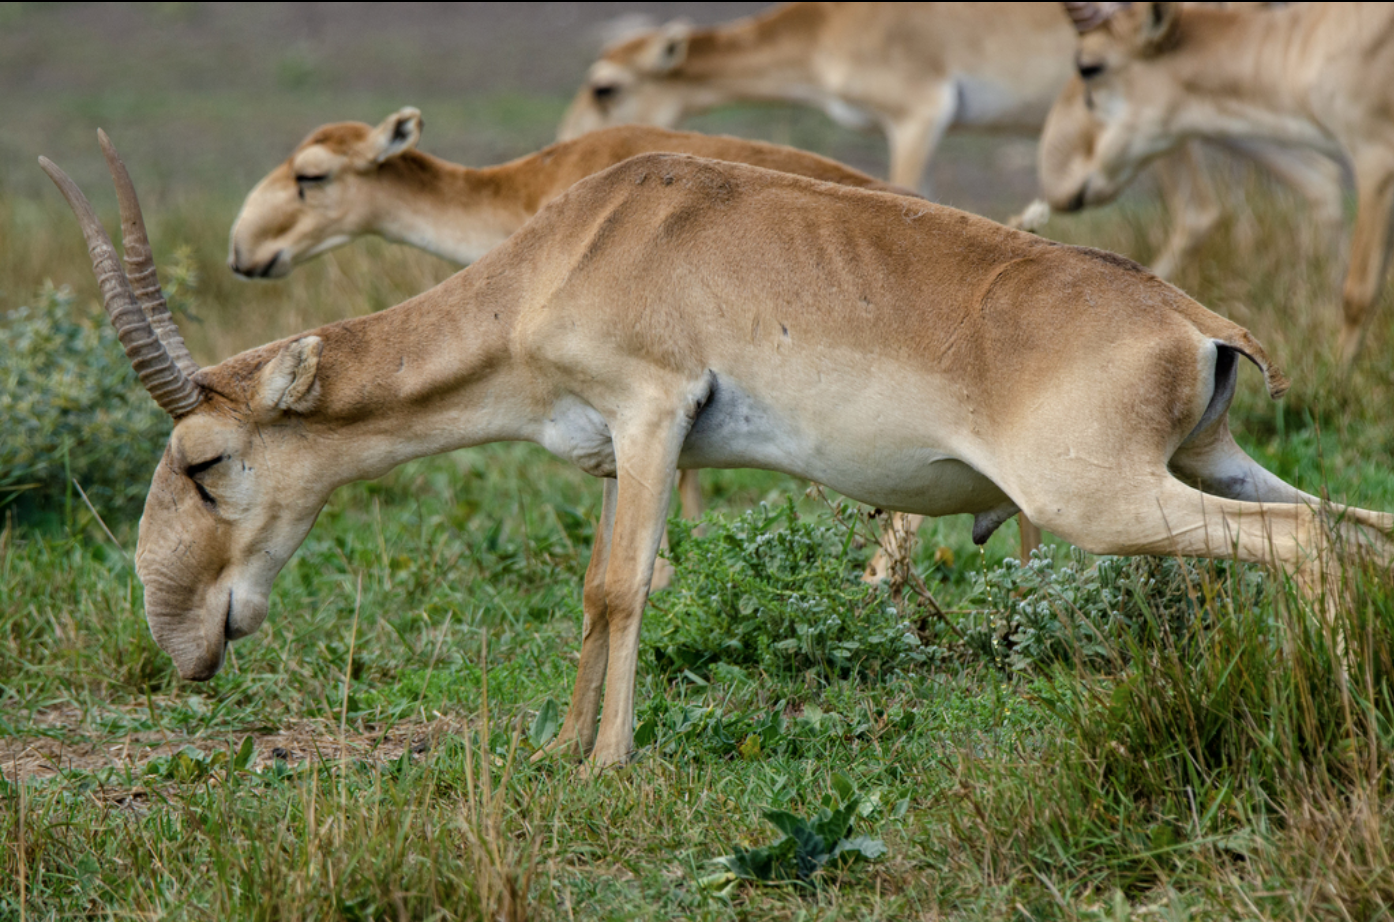saiga: (25, 126, 1331, 775)
